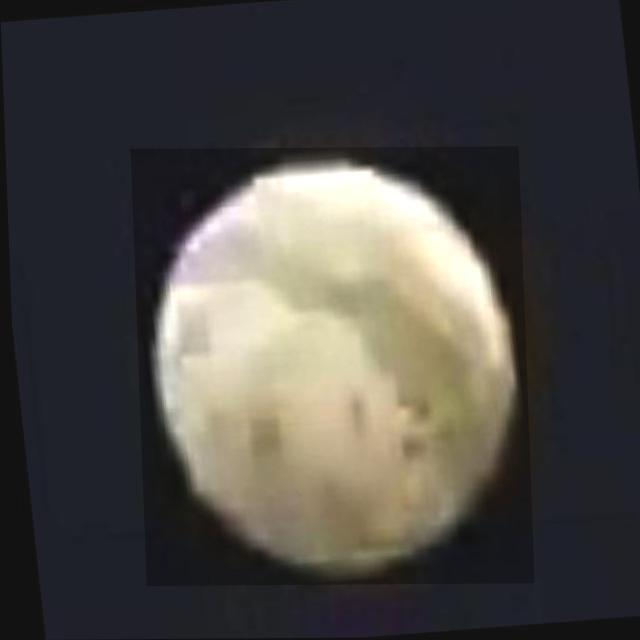-: (129, 147, 530, 586)
